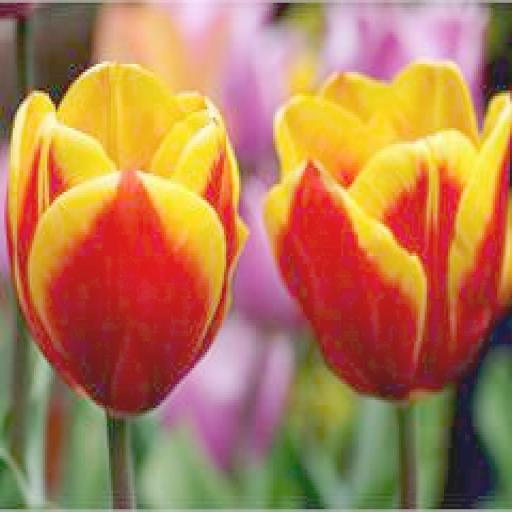tulip: (6, 59, 246, 416), (262, 61, 512, 400)
